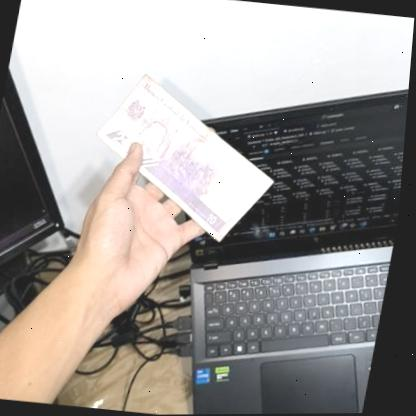vef_back: (80, 67, 296, 247)
